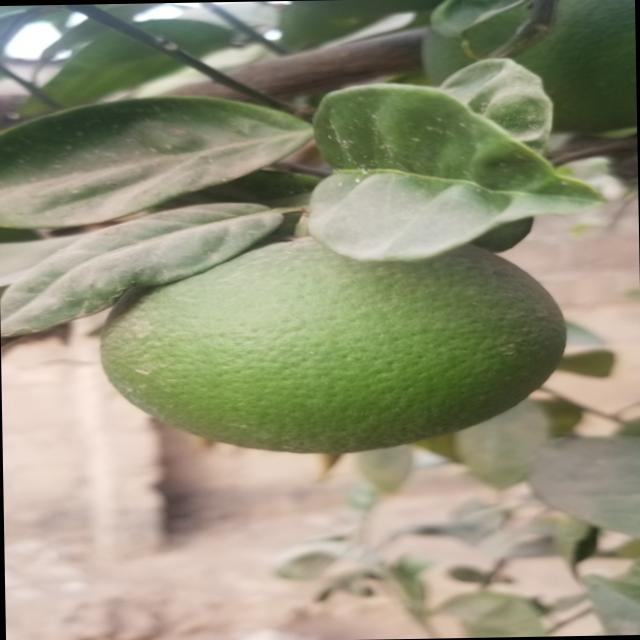Unripe: (100, 238, 561, 452)
